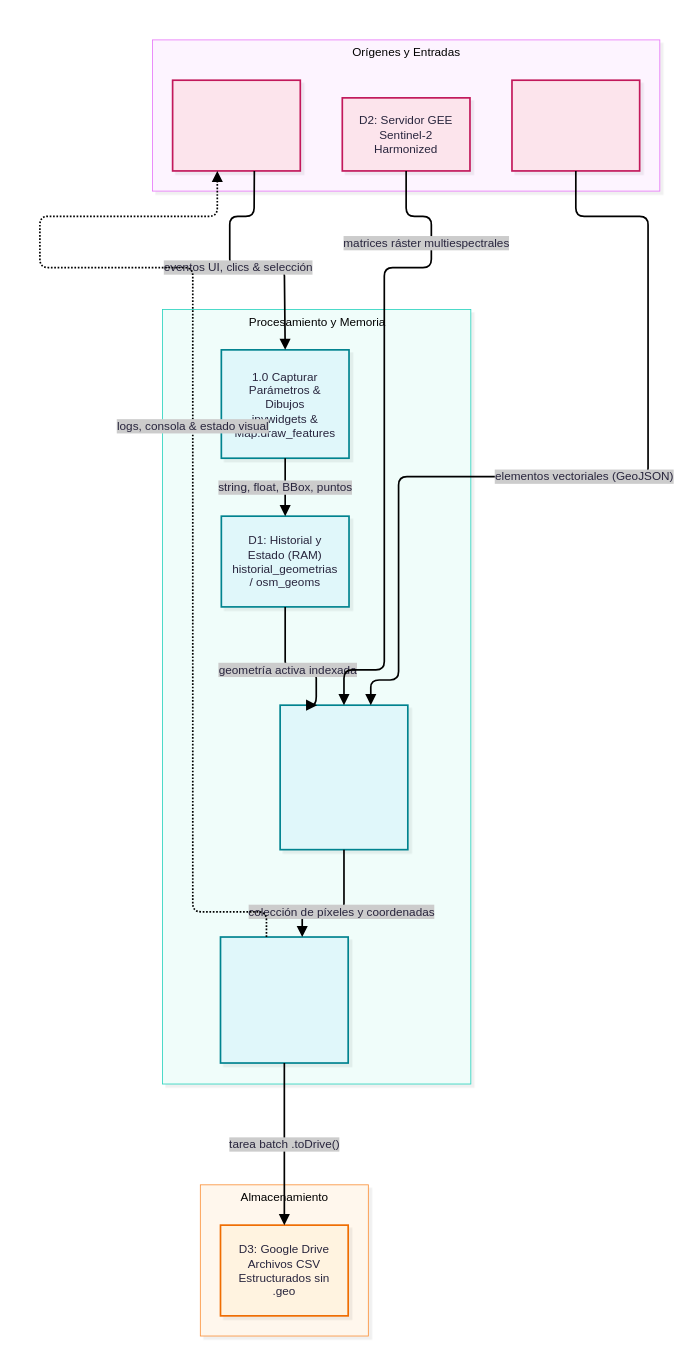
The diagram is 687 pixels wide and 1354 high, and some of its shapes have lost their labels. Here are the shapes that lost their labels. From the top down, the centre of each, then its label:
the point at 237,127: E1: Usuario Jupyter Notebook / MapaSeguro
the point at 577,127: D4: Overpass API / OSMnx Espejos de Red (máx. 25 km²)
the point at 345,778: 2.0 Procesamiento Espacial y Vectorial OSMnx (timeout 300s) & GEE Clip/Sample
the point at 285,1001: 3.0 Filtrado y Limpieza de Datos Regex / Selección sin columna .geo
